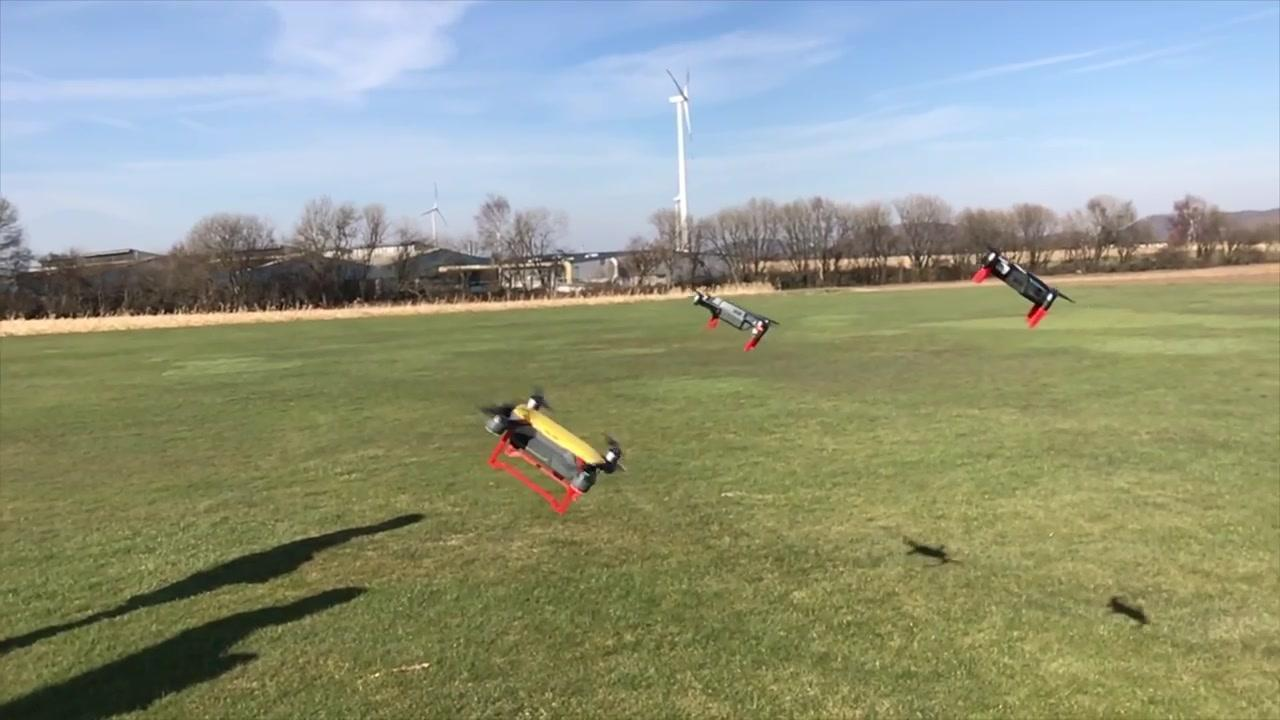UAV: (477, 385, 627, 517), (971, 238, 1077, 330), (694, 292, 781, 354)
